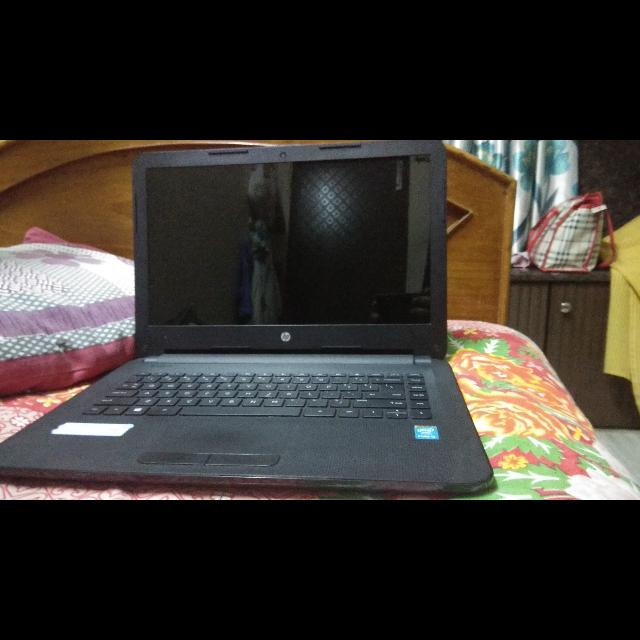Laptop: (1, 142, 512, 500)
